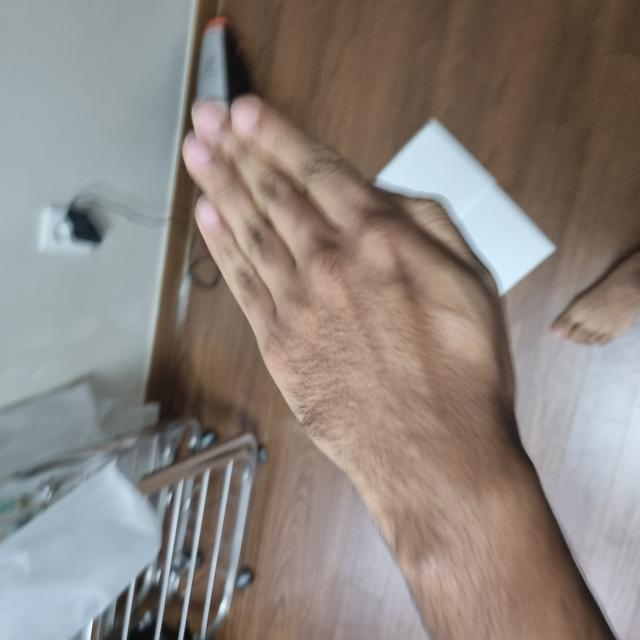Paper: (154, 188, 543, 502)
